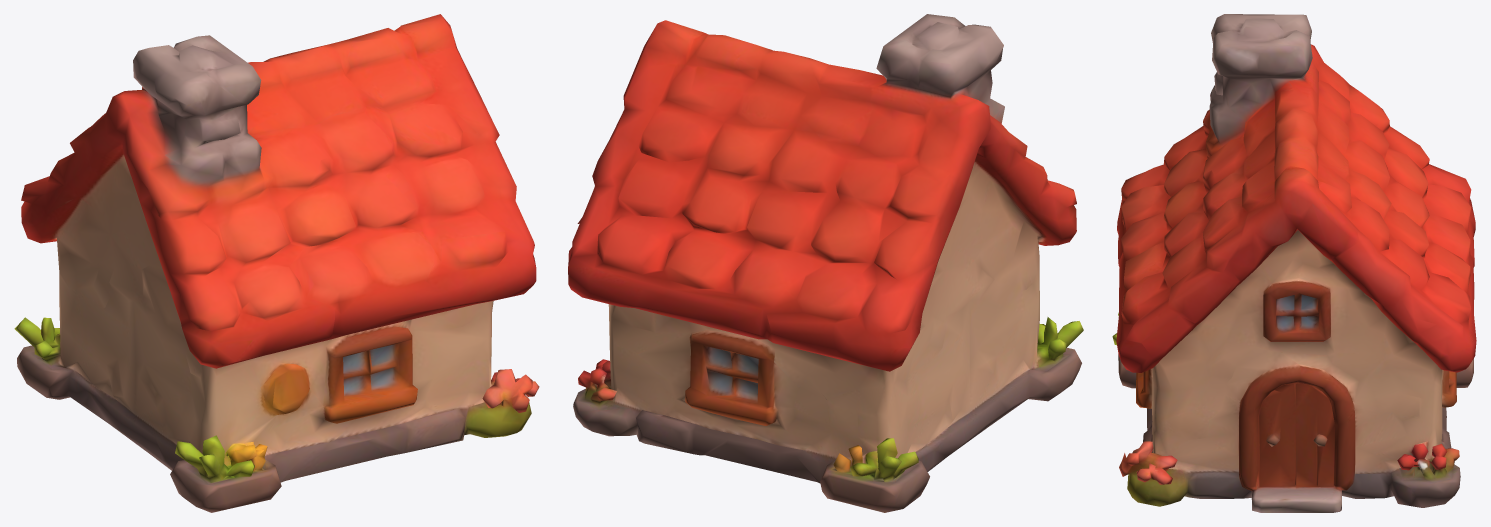
Rendered from house.glb.
3 renders of one model, left to right at view 1: azimuth 30°, elevation 25°; view 2: azimuth 150°, elevation 25°; view 3: azimuth 270°, elevation 25°, orthographic. The views are drawn at different scales.
Parts seen in each view (by area): view 1: tripo_node_bb39ea17-85f2-476f-b7c4-6605c47697f5; view 2: tripo_node_bb39ea17-85f2-476f-b7c4-6605c47697f5; view 3: tripo_node_bb39ea17-85f2-476f-b7c4-6605c47697f5.
Part boxes in pixels (left/top/right/bottom): tripo_node_bb39ea17-85f2-476f-b7c4-6605c47697f5: left=14, top=14, right=539, bottom=512; tripo_node_bb39ea17-85f2-476f-b7c4-6605c47697f5: left=568, top=14, right=1083, bottom=512; tripo_node_bb39ea17-85f2-476f-b7c4-6605c47697f5: left=1112, top=14, right=1476, bottom=512.
Bounding box in the file's own units: 0.9379 × 0.9995 × 0.9038.
Materials: 1 (1 with a texture image).
